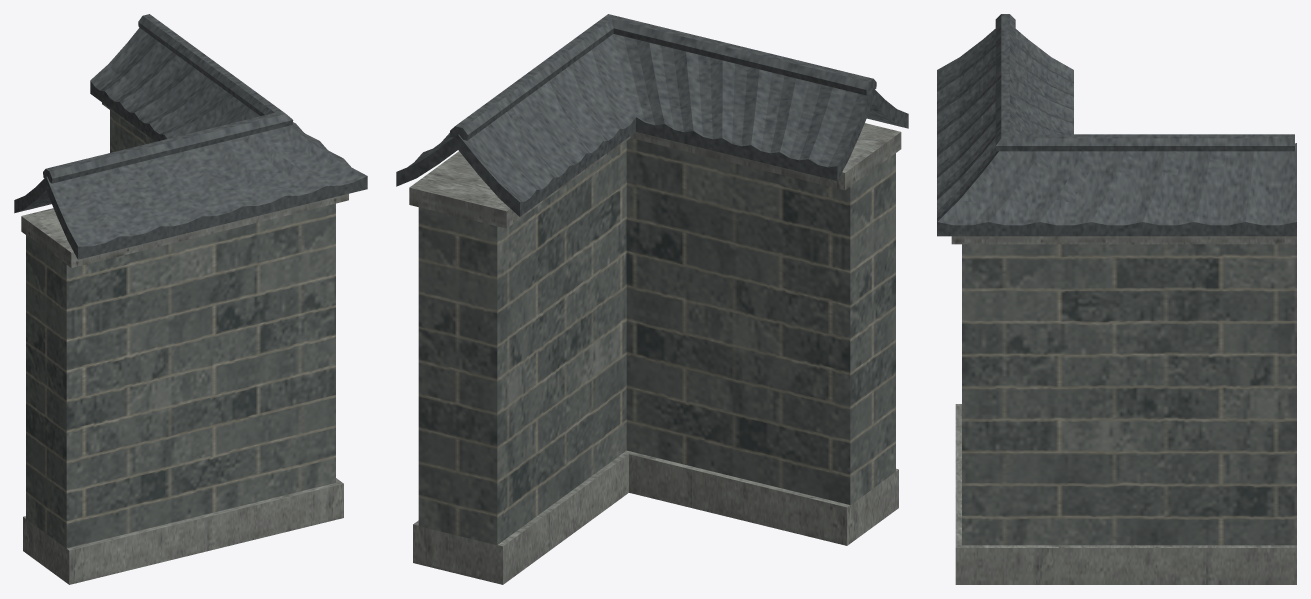
File: WallCorner_LOD1.fbx
The picture shows the model from 3 angles, left to right: view 1: azimuth 30°, elevation 25°; view 2: azimuth 150°, elevation 25°; view 3: azimuth 270°, elevation 25°; orthographic projection. The views are drawn at different scales.
Parts seen in each view (by area): view 1: WallCorner.001; view 2: WallCorner.001; view 3: WallCorner.001.
Part boxes in pixels (x1,y1,x2,y2): WallCorner.001: (14, 14, 367, 584); WallCorner.001: (396, 14, 908, 584); WallCorner.001: (937, 14, 1296, 584).
Size of the model in its own units: 1.23 by 1.62 by 1.23.
Materials: 1 (1 with a texture image).
